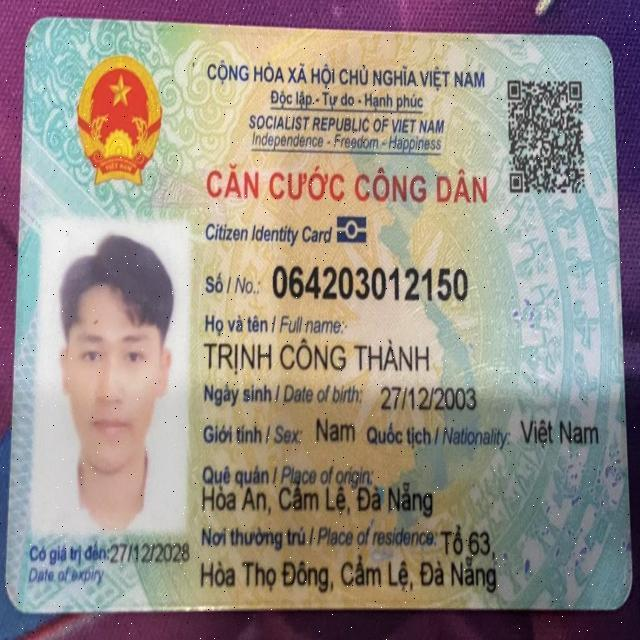current_place: (196, 554, 499, 601), (439, 521, 494, 556)
dob: (374, 380, 478, 415)
expire_date: (106, 539, 192, 564)
gender: (313, 414, 357, 448)
id: (269, 256, 473, 309)
name: (201, 336, 431, 374)
nationality: (519, 415, 602, 450)
origin_place: (200, 479, 432, 516)
